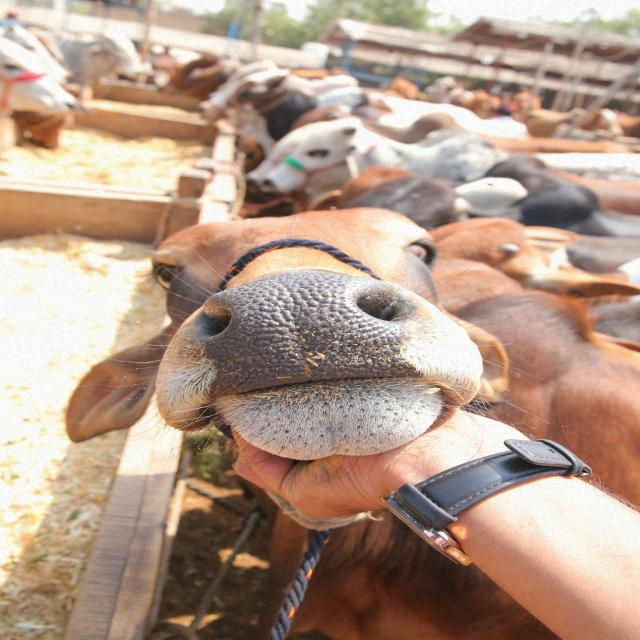muzzles: (184, 275, 434, 390)
